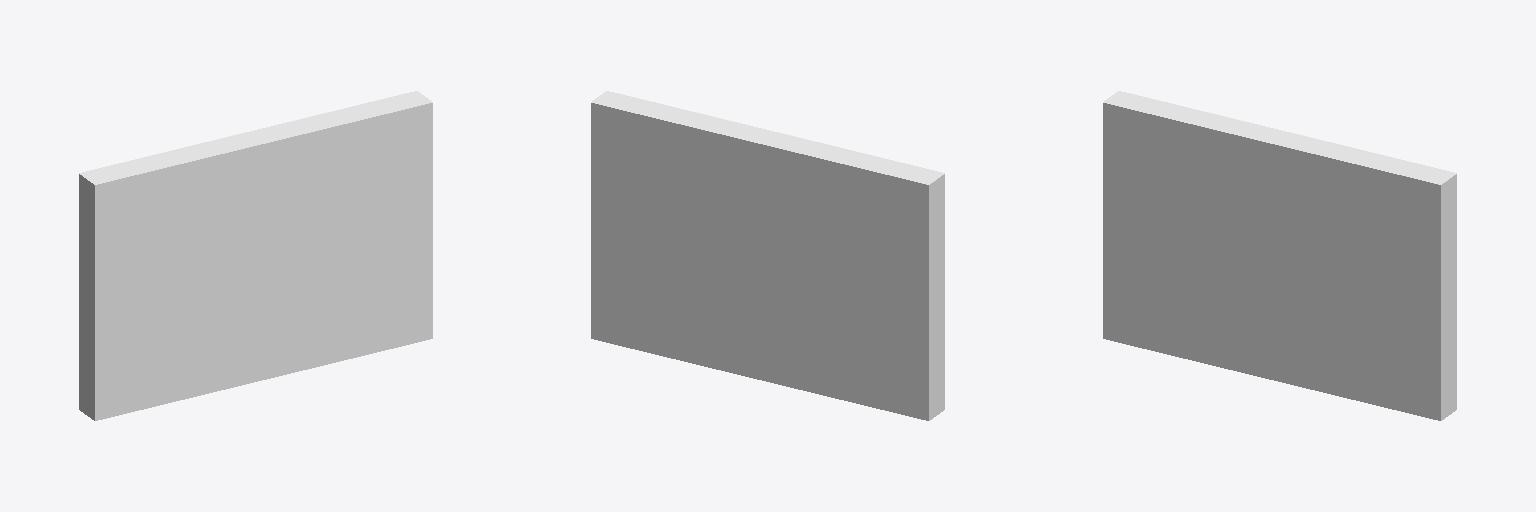
File: paint2.obj
The picture shows the model from 3 angles: view 1: azimuth 30°, elevation 25°; view 2: azimuth 150°, elevation 25°; view 3: azimuth 330°, elevation 25°; orthographic projection.
Visible parts, largest first — view 1: object 1; view 2: object 1; view 3: object 1.
Part boxes in pixels (left/top/right/bottom): object 1: left=79, top=91, right=432, bottom=420; object 1: left=591, top=91, right=944, bottom=420; object 1: left=1103, top=91, right=1456, bottom=420.
Size of the model in its own units: 1.2 by 0.8 by 0.1.